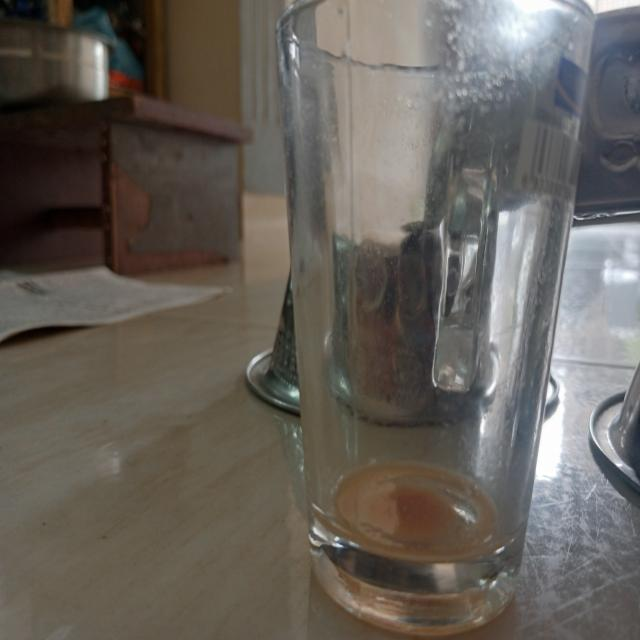glass-VX4N: (277, 0, 598, 640)
